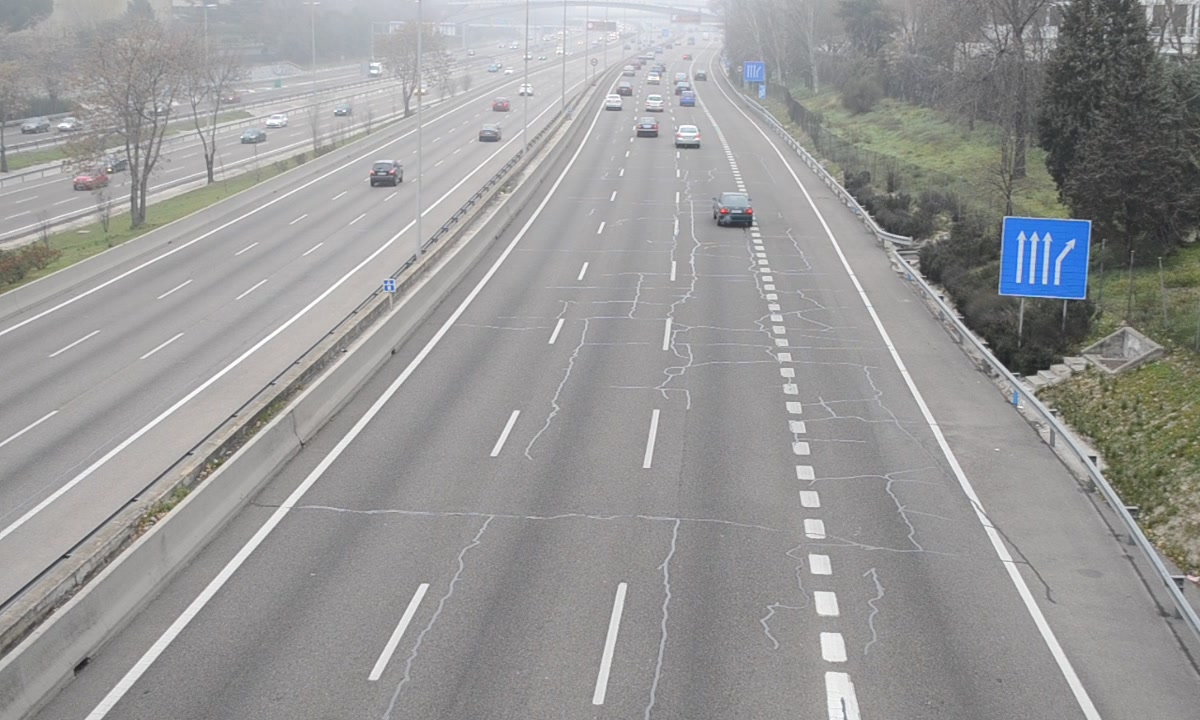car: (715, 191, 755, 228), (673, 123, 703, 150)
